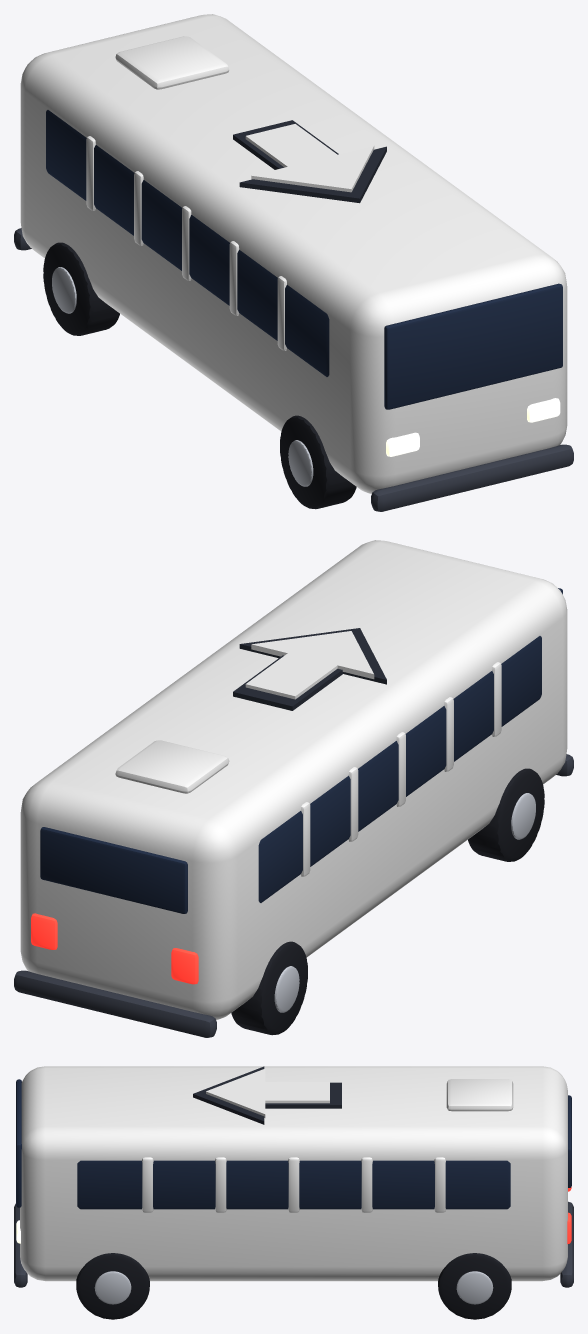
Rendered from Bus.fbx.
The picture shows the model from 3 angles, top to bottom: view 1: azimuth 30°, elevation 25°; view 2: azimuth 150°, elevation 25°; view 3: azimuth 270°, elevation 25°; orthographic projection. The views are drawn at different scales.
Visible parts, largest first — view 1: Bus, Arrow, Wheel_RL, Wheel_FL; view 2: Bus, Arrow, Wheel_FL, Wheel_RL; view 3: Bus, Arrow, Wheel_FR, Wheel_RR.
Boxes of the visible parts, x1,y1,x2,y2 form: Bus: (14, 14, 573, 511); Arrow: (233, 120, 386, 203); Wheel_RL: (43, 242, 119, 335); Wheel_FL: (280, 415, 356, 509); Bus: (14, 540, 573, 1037); Arrow: (233, 628, 386, 710); Wheel_FL: (468, 768, 544, 861); Wheel_RL: (231, 941, 307, 1035); Bus: (14, 1066, 573, 1287); Arrow: (193, 1066, 341, 1124); Wheel_FR: (76, 1253, 149, 1319); Wheel_RR: (438, 1253, 511, 1319).
Bounding box in the file's own units: 1.02 × 1.06 × 2.86.
